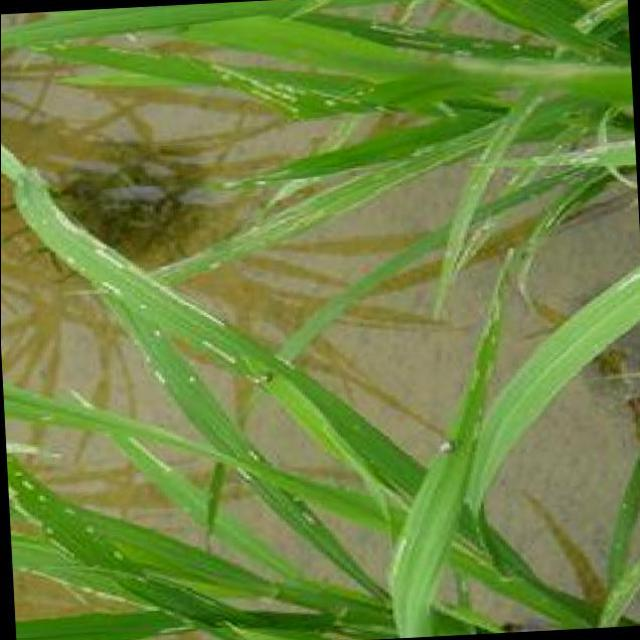ricebug: (438, 441, 454, 455)
